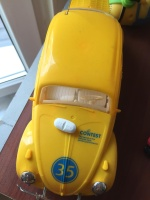Centik Buskopan: (53, 117, 77, 135)
